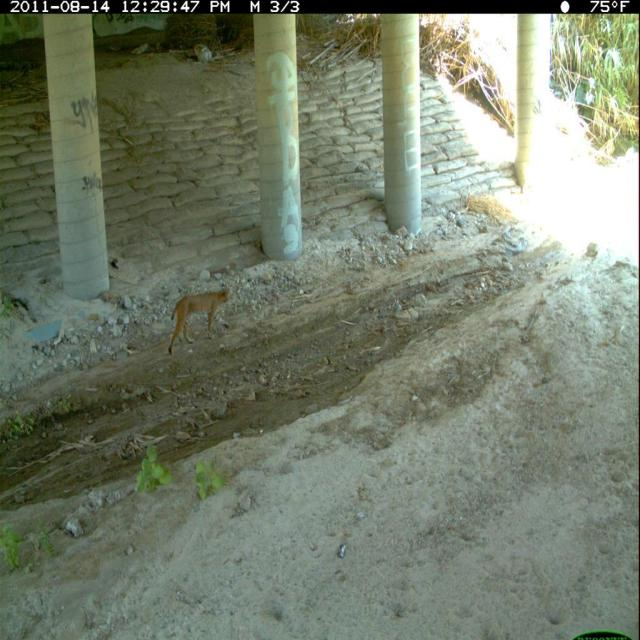bobcat: (166, 282, 237, 360)
